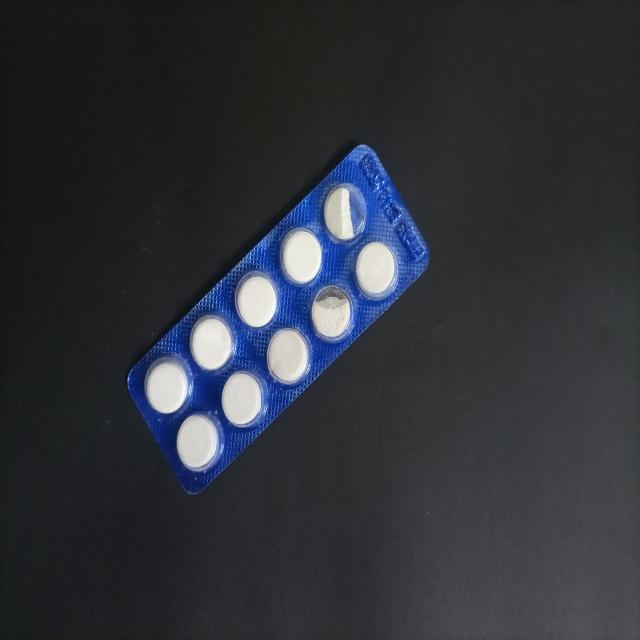defect: (321, 181, 370, 247), (309, 281, 357, 345)
